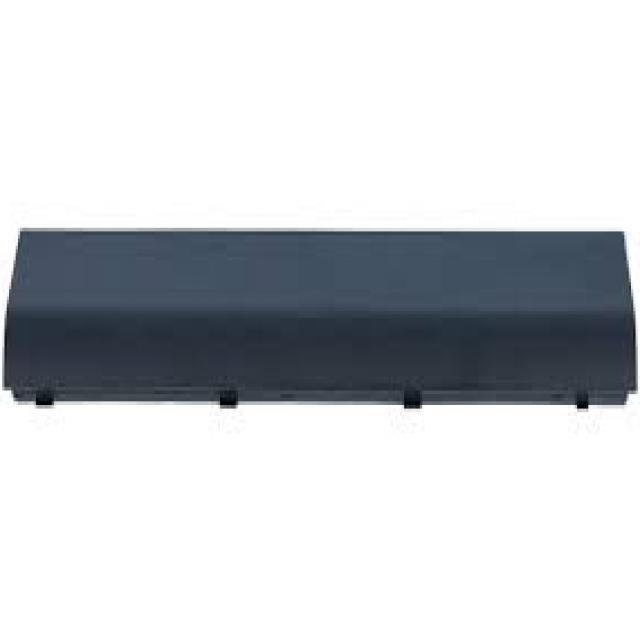battery: (5, 230, 639, 412)
